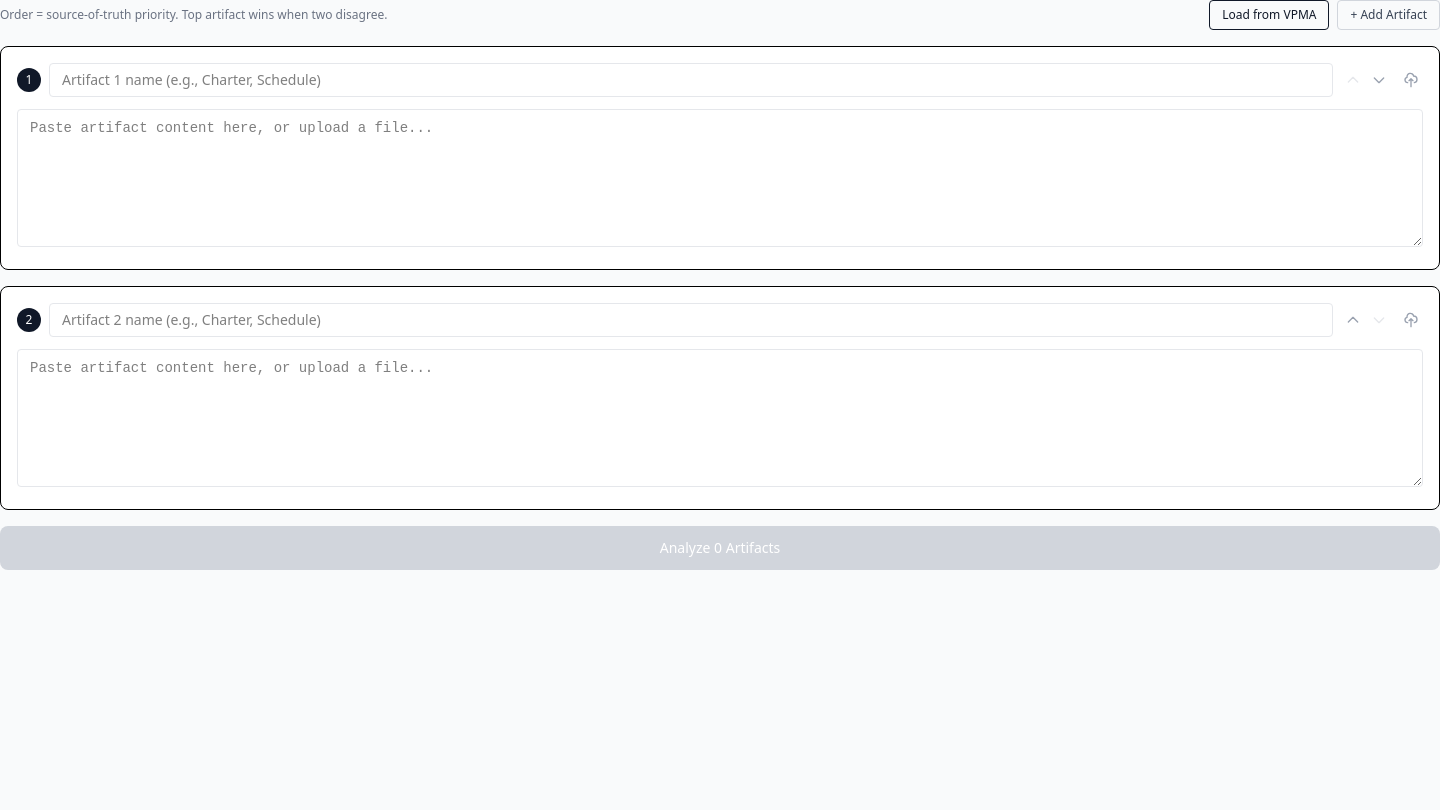
Test: ArtifactUploader › adds an artifact when Add Artifact is clicked
The image size is (1440, 810).
Click the button "+ Add Artifact": point(1389, 15) left=1338, top=0, right=1439, bottom=30
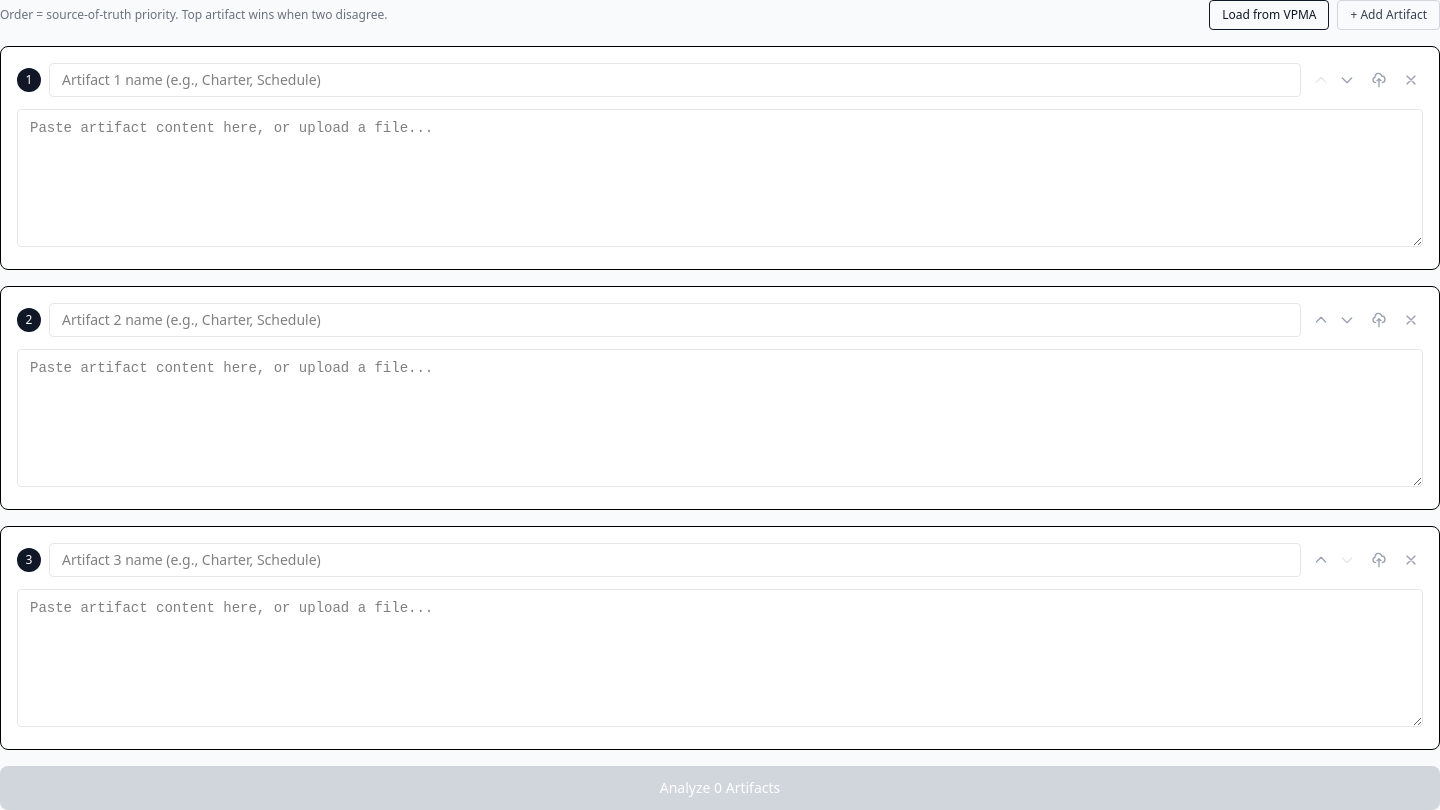
Now the number of text boxes with placeholder "Paste artifact content here, or upload a file..." is 3, box left=17, top=109, right=1423, bottom=247; left=17, top=349, right=1423, bottom=487; left=17, top=589, right=1423, bottom=727
